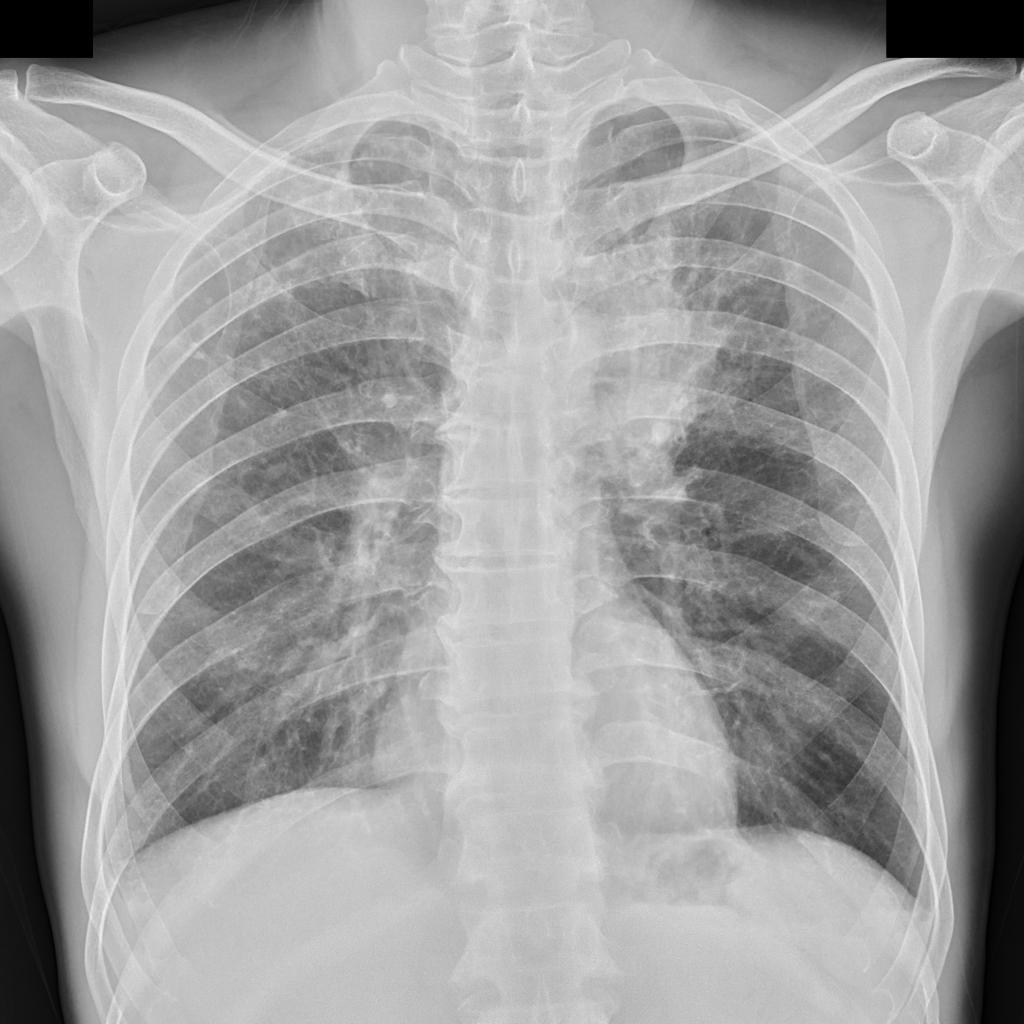Nodule: (546, 261, 718, 490)
